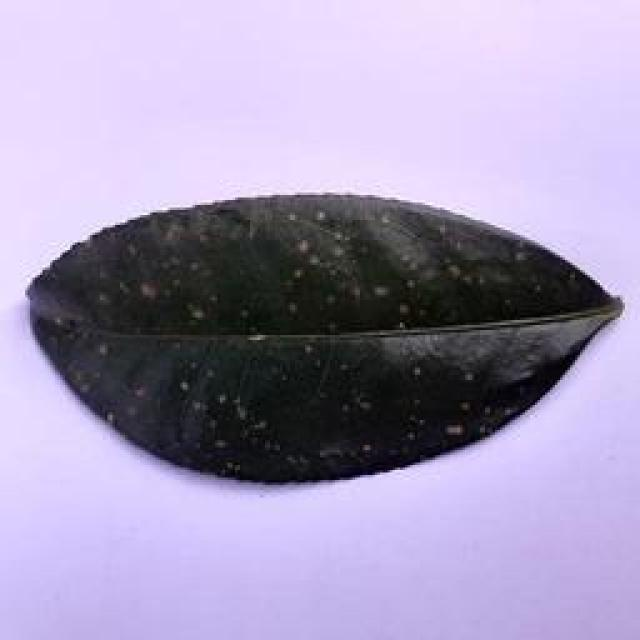Algal Leaf Spot: (18, 189, 619, 486)
